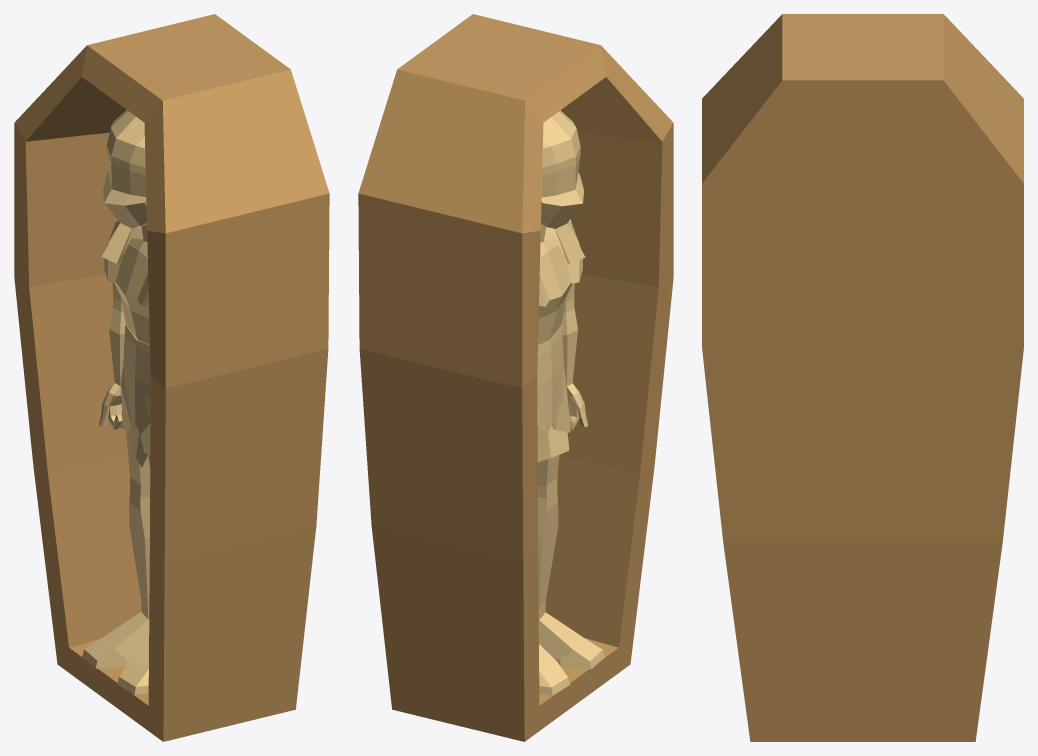
Rendered from Anuurn 1.fbx.
3 renders of one model, left to right at view 1: azimuth 30°, elevation 25°; view 2: azimuth 150°, elevation 25°; view 3: azimuth 270°, elevation 25°, orthographic. The views are drawn at different scales.
Visible parts, largest first — view 1: Cube.003, Cube.001, Cube, Cube.002; view 2: Cube.003, Cube.001, Cube, Cube.002, Plane; view 3: Cube.003.
Part boxes in pixels (x1,y1,x2,y2): Cube.003: (14, 14, 329, 741); Cube.001: (82, 227, 150, 694); Cube: (101, 110, 148, 305); Cube.002: (120, 324, 150, 455); Cube.003: (358, 14, 673, 741); Cube.001: (537, 228, 604, 695); Cube: (539, 110, 585, 306); Cube.002: (537, 325, 570, 446); Plane: (537, 380, 569, 462); Cube.003: (702, 14, 1023, 741).
Size of the model in its own units: 223 by 796 by 348.
